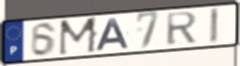6: (30, 22, 58, 57)
7: (135, 10, 161, 53)
A: (95, 17, 132, 52)
I: (209, 6, 221, 45)
M: (57, 16, 100, 58)
R: (165, 10, 200, 47)
